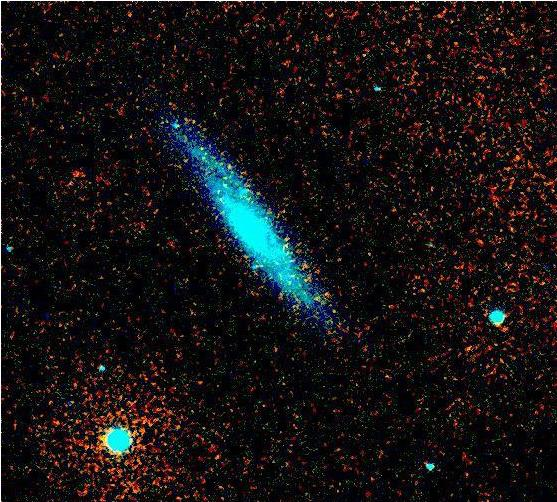star: (367, 360, 397, 390)
